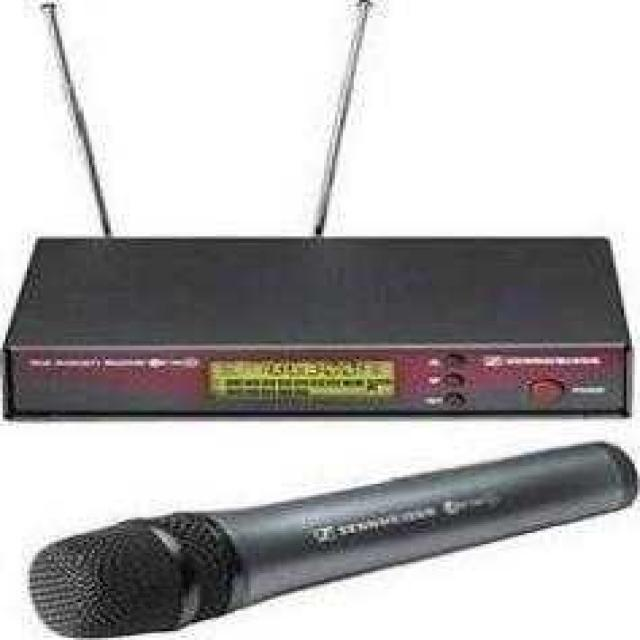microphone: (33, 438, 623, 639), (28, 516, 221, 638)
